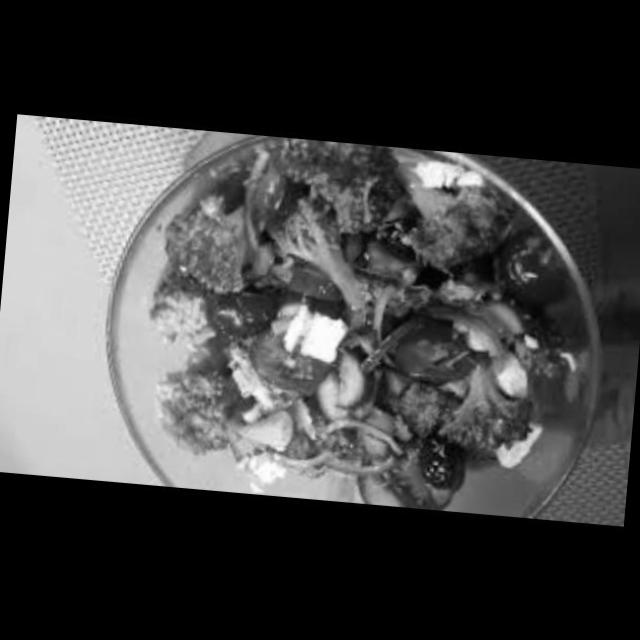broccoli: (270, 192, 380, 322), (398, 161, 516, 279), (122, 376, 246, 462), (128, 266, 234, 364), (430, 363, 530, 462), (303, 142, 400, 235), (159, 230, 265, 302)
cucumber: (314, 352, 374, 432)
onion: (270, 439, 406, 491)
tomato: (372, 322, 482, 404), (246, 323, 340, 404), (492, 225, 576, 313), (365, 436, 457, 512), (185, 284, 284, 349), (246, 152, 298, 244)
